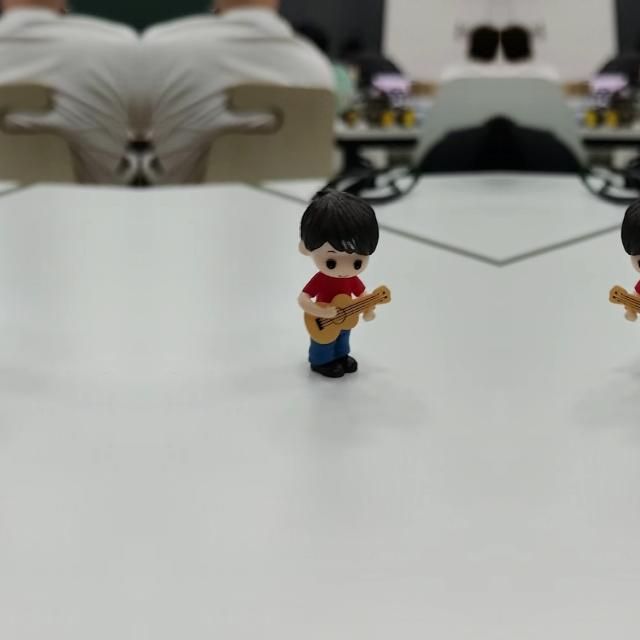man cloth: (296, 272, 369, 304), (630, 272, 640, 303)
man head: (300, 186, 384, 280), (616, 186, 640, 279)
trousers: (310, 326, 358, 382)
